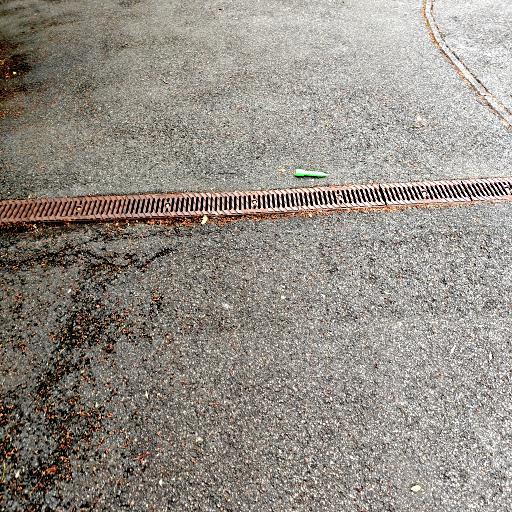Probe-Detection: (296, 169, 327, 177)
